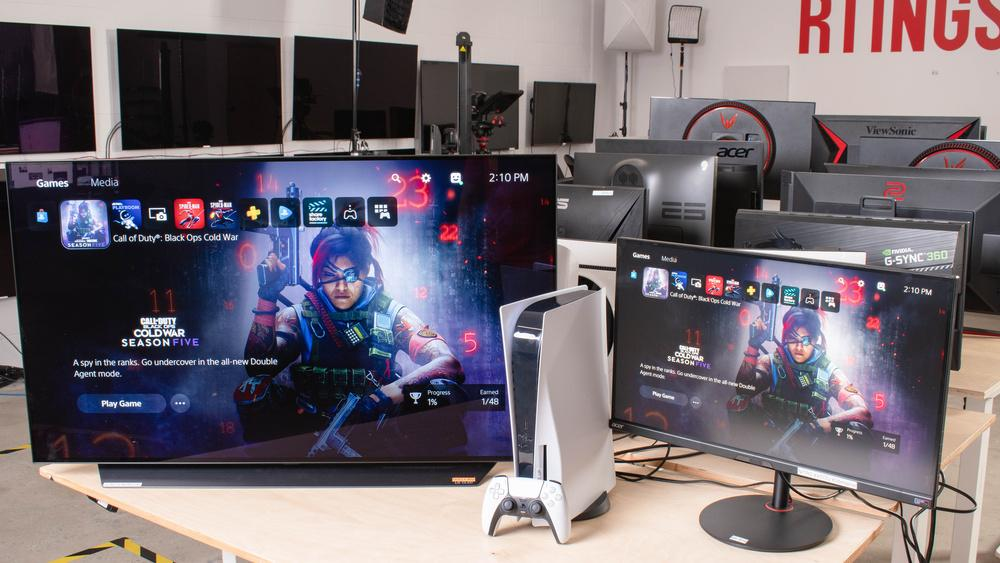monitor: (5, 158, 557, 480), (599, 234, 966, 556), (112, 26, 284, 150), (289, 33, 421, 139), (415, 60, 521, 149), (527, 77, 600, 147)
